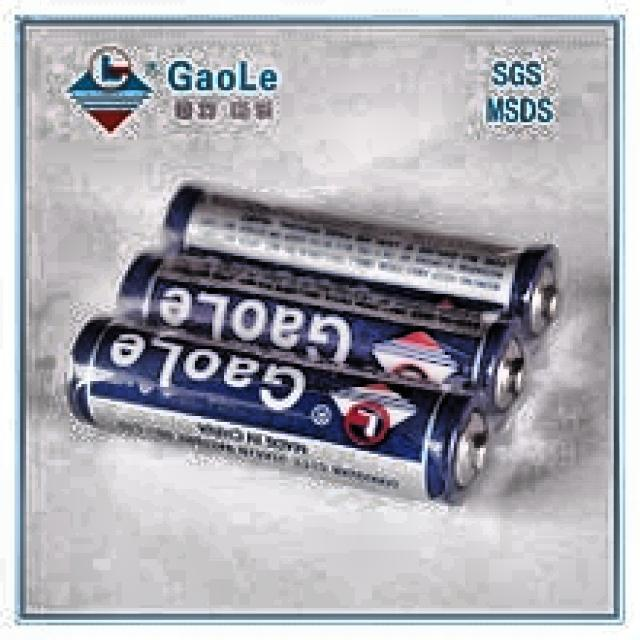battery: (75, 186, 556, 501)
